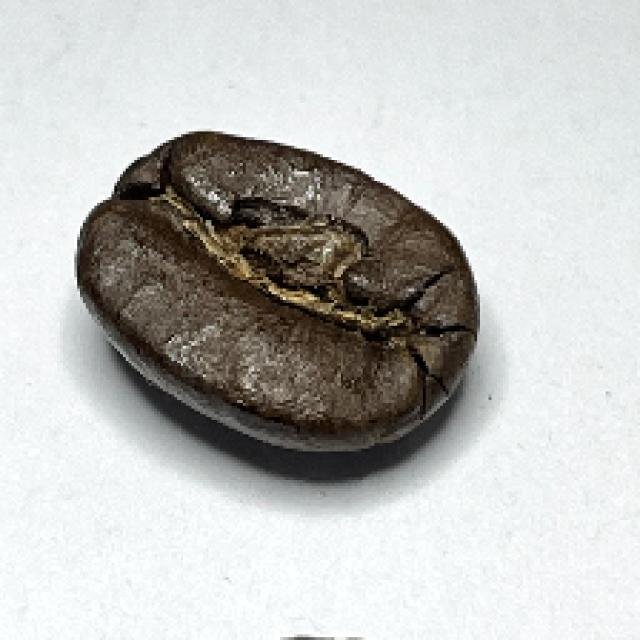bean: (72, 128, 483, 450)
